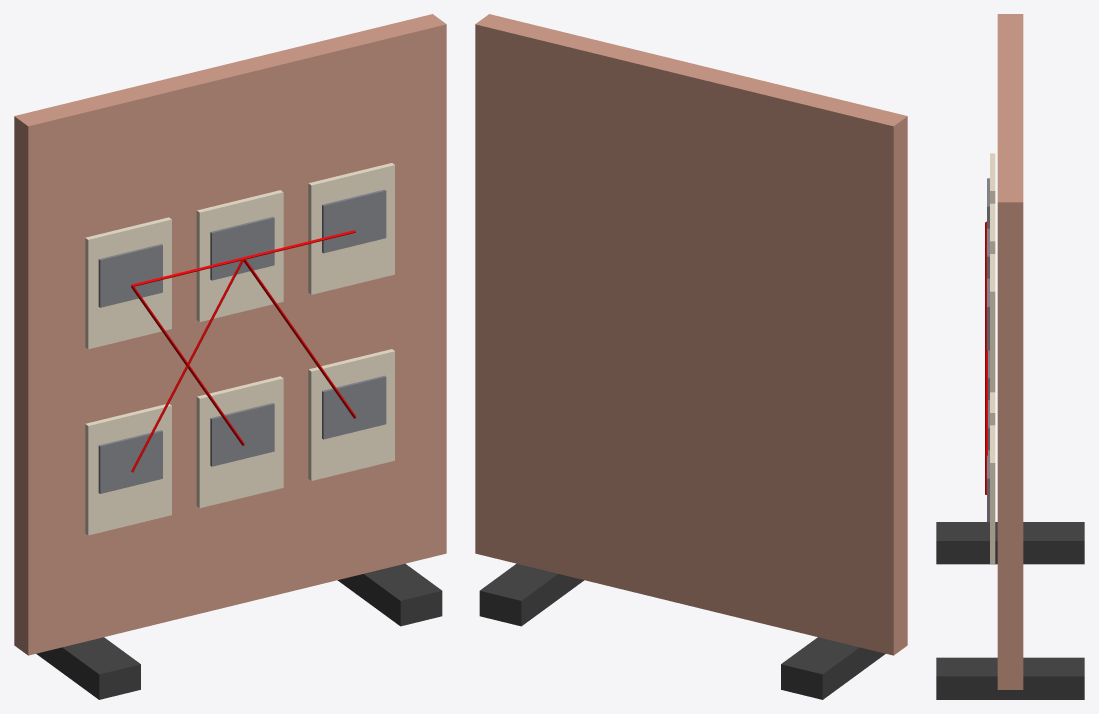
The picture shows the model from 3 angles, left to right: view 1: azimuth 30°, elevation 25°; view 2: azimuth 150°, elevation 25°; view 3: azimuth 270°, elevation 25°; orthographic projection. The views are drawn at different scales.
Visible parts, largest first — view 1: Panel, Fictional evidence card.001, Fictional evidence card.005, Fictional evidence card, Fictional evidence card.002, Fictional evidence card.004, Fictional evidence card.003, Panel foot.001, Panel foot, Geometric photo placeholder.005, Geometric photo placeholder, Geometric photo placeholder.001 (+7 smaller); view 2: Panel, Panel foot.001, Panel foot; view 3: Panel, Panel foot.001, Panel foot, Fictional evidence card.002, Fictional evidence card.005, Relationship string.002, Fictional evidence card.003, Fictional evidence card.004.
Boxes of the visible parts, x1=… form: Panel: x1=14, y1=14, x2=446, y2=655; Fictional evidence card.001: x1=196, y1=376, x2=283, y2=508; Fictional evidence card.005: x1=308, y1=163, x2=394, y2=294; Fictional evidence card: x1=85, y1=404, x2=171, y2=535; Fictional evidence card.002: x1=308, y1=349, x2=394, y2=480; Fictional evidence card.004: x1=196, y1=190, x2=283, y2=321; Fictional evidence card.003: x1=85, y1=217, x2=171, y2=349; Panel foot.001: x1=337, y1=563, x2=442, y2=626; Panel foot: x1=36, y1=637, x2=140, y2=699; Geometric photo placeholder.005: x1=322, y1=189, x2=386, y2=253; Geometric photo placeholder: x1=98, y1=430, x2=162, y2=493; Geometric photo placeholder.001: x1=210, y1=403, x2=274, y2=466; Panel: x1=475, y1=14, x2=907, y2=655; Panel foot.001: x1=479, y1=563, x2=584, y2=626; Panel foot: x1=781, y1=637, x2=885, y2=699; Panel: x1=997, y1=14, x2=1023, y2=689; Panel foot.001: x1=936, y1=657, x2=1084, y2=699; Panel foot: x1=936, y1=522, x2=1084, y2=564; Fictional evidence card.002: x1=990, y1=425, x2=995, y2=563; Fictional evidence card.005: x1=990, y1=254, x2=995, y2=392; Relationship string.002: x1=985, y1=323, x2=987, y2=494; Fictional evidence card.003: x1=990, y1=153, x2=995, y2=203; Fictional evidence card.004: x1=990, y1=203, x2=995, y2=253.
Bounding box in the file's own units: 120 × 153 × 40.
